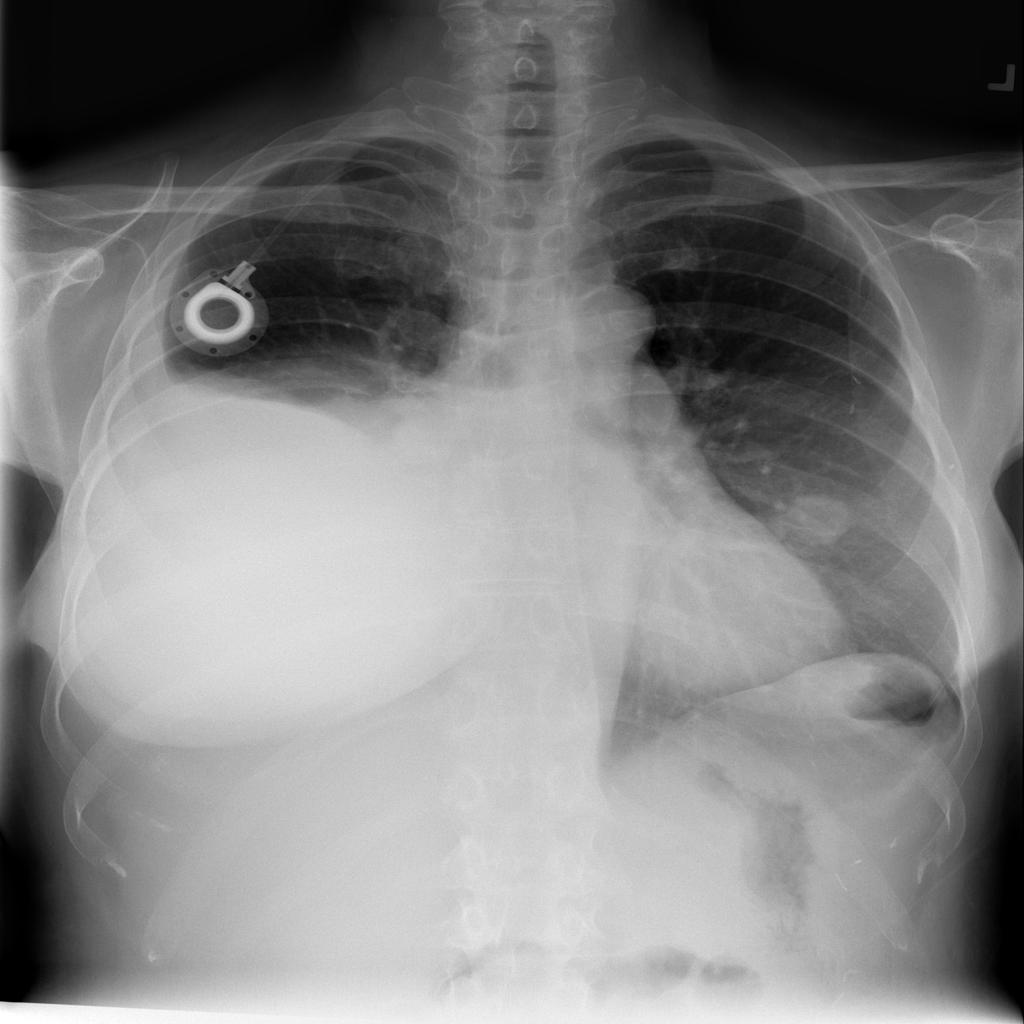nodule: (377, 410, 479, 487), (779, 479, 865, 563)
